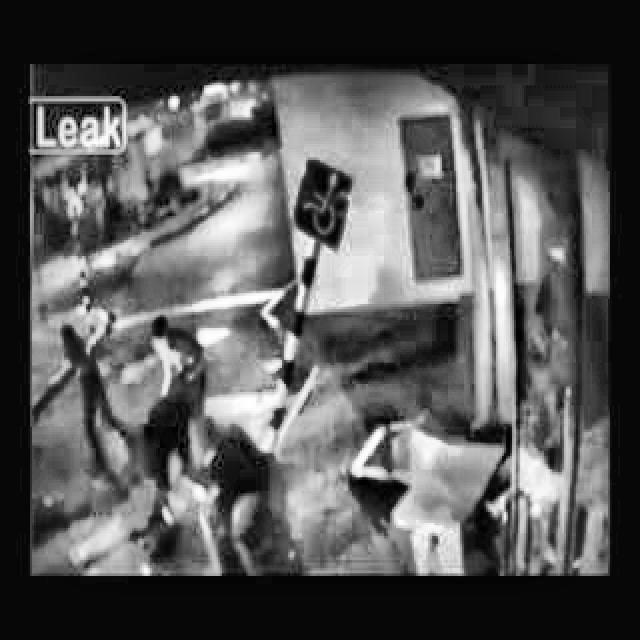burglary: (56, 310, 606, 575)
